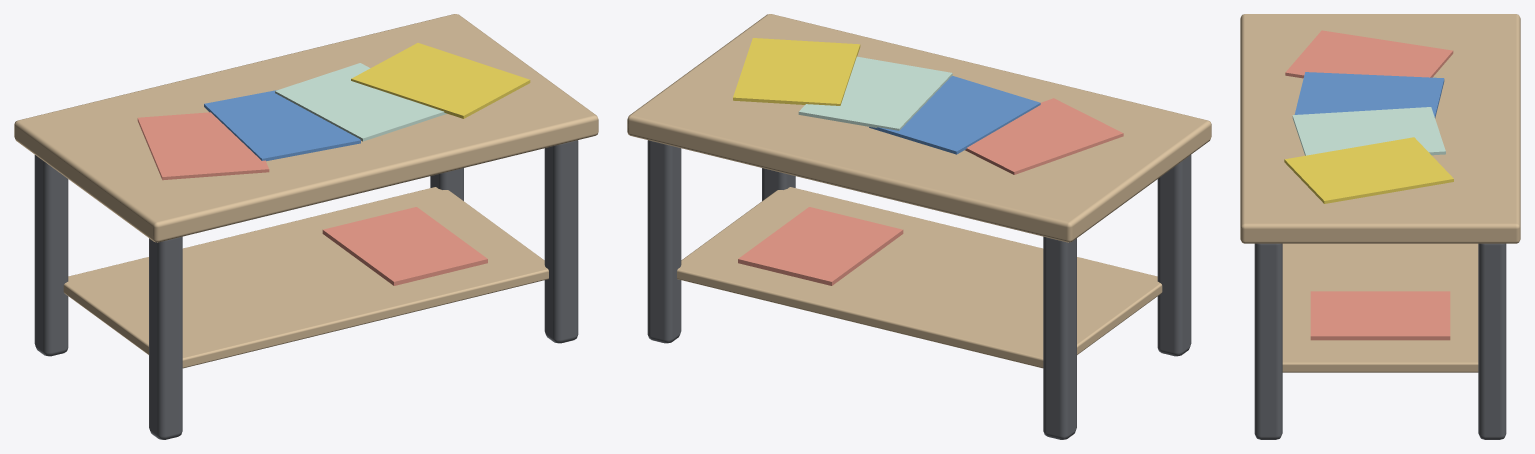
Rendered from low_table.glb.
The picture shows the model from 3 angles, left to right: view 1: azimuth 30°, elevation 25°; view 2: azimuth 150°, elevation 25°; view 3: azimuth 270°, elevation 25°; orthographic projection.
Parts seen in each view (by area): view 1: low-table-with-magazines; view 2: low-table-with-magazines; view 3: low-table-with-magazines.
Boxes of the visible parts, <box> form: low-table-with-magazines: <box>14,14,598,439</box>; low-table-with-magazines: <box>627,14,1211,439</box>; low-table-with-magazines: <box>1240,14,1520,439</box>.
Size of the model in its own units: 0.9 by 0.462 by 0.5001.
